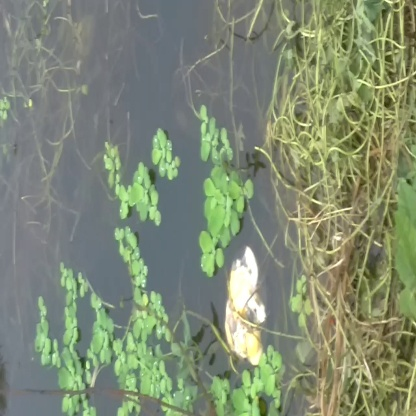leaf: (149, 129, 186, 183)
